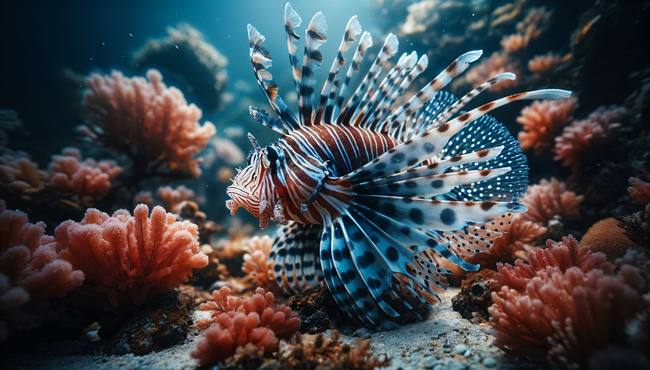fish: (225, 10, 573, 317)
